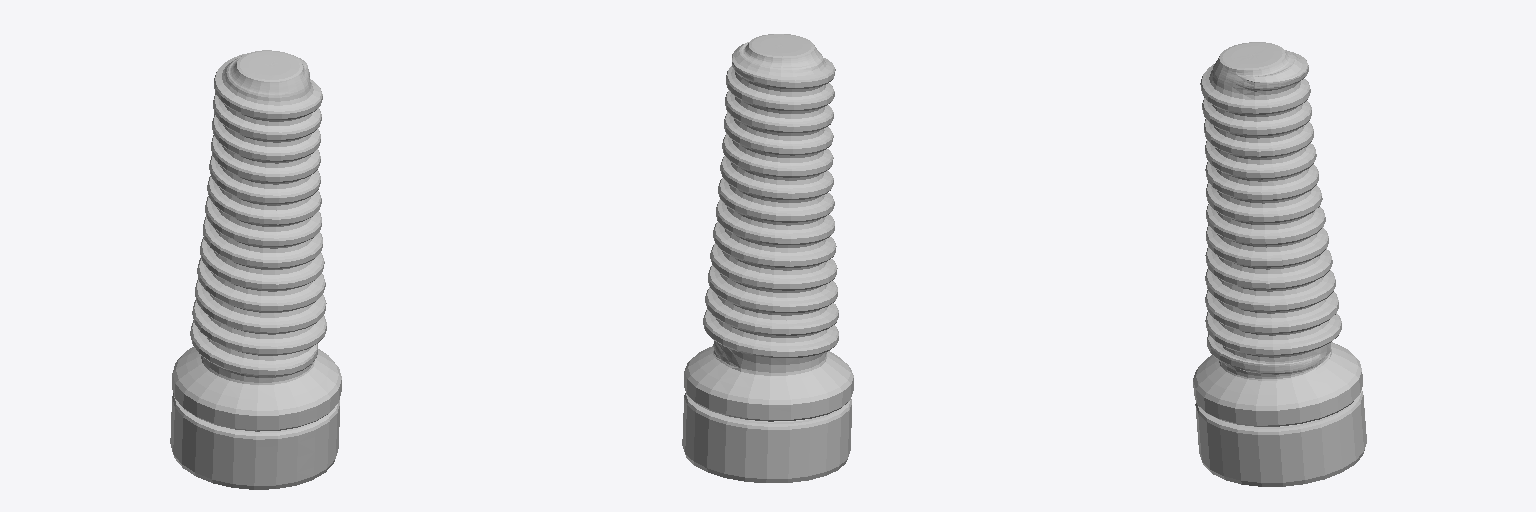
File: screw_up_big_fat.obj
3 views of the same model, side by side, from view 1: azimuth 30°, elevation 25°; view 2: azimuth 150°, elevation 25°; view 3: azimuth 270°, elevation 25° (orthographic).
Parts seen in each view (by area): view 1: screw_down1; view 2: screw_down1; view 3: screw_down1.
Boxes of the visible parts, x1=… form: screw_down1: x1=170, y1=50, x2=341, y2=489; screw_down1: x1=682, y1=34, x2=853, y2=482; screw_down1: x1=1193, y1=42, x2=1366, y2=486.
Bounding box in the file's own units: 0.0087 × 0.0229 × 0.0089.